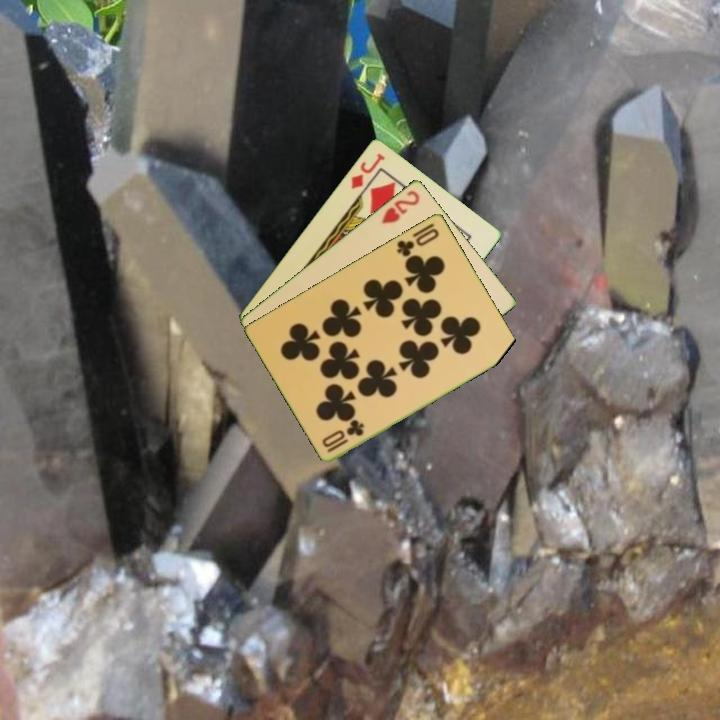10c: (393, 224, 442, 259), (323, 417, 367, 455)
2h: (378, 186, 423, 226)
Jd: (347, 149, 388, 191)
